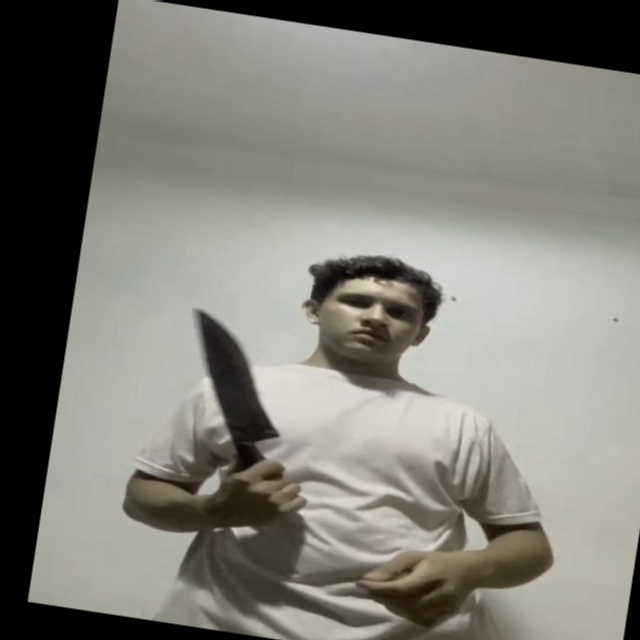Sharp-Object: (174, 307, 297, 442)
